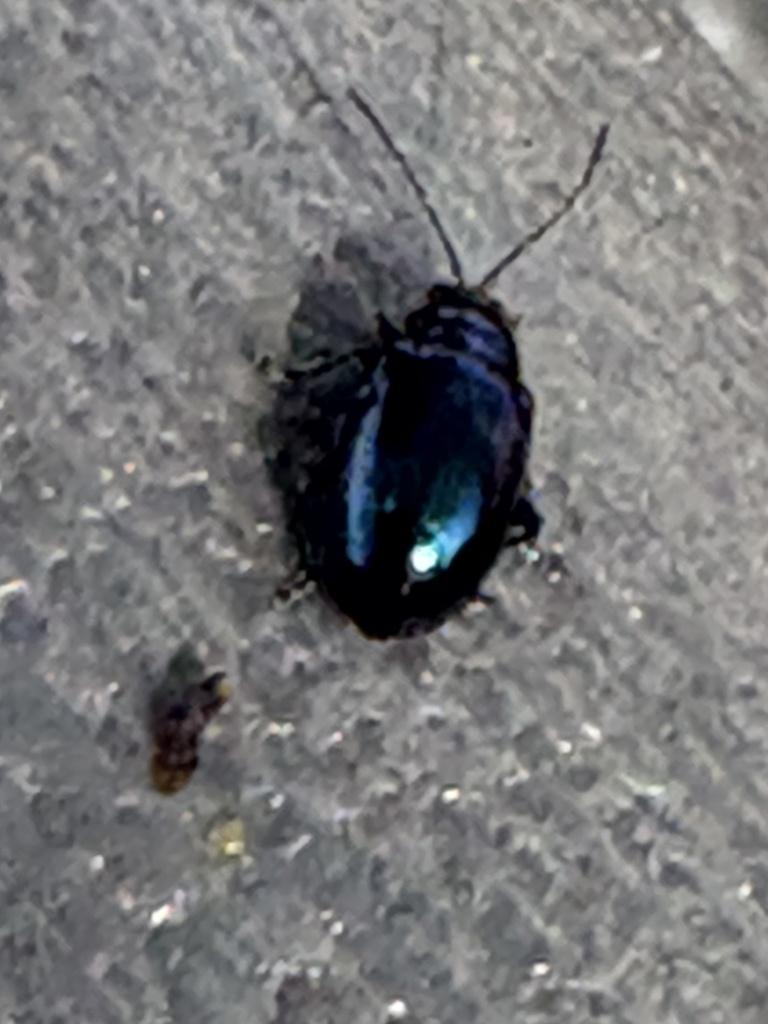flea_beetle: (237, 17, 681, 696)
